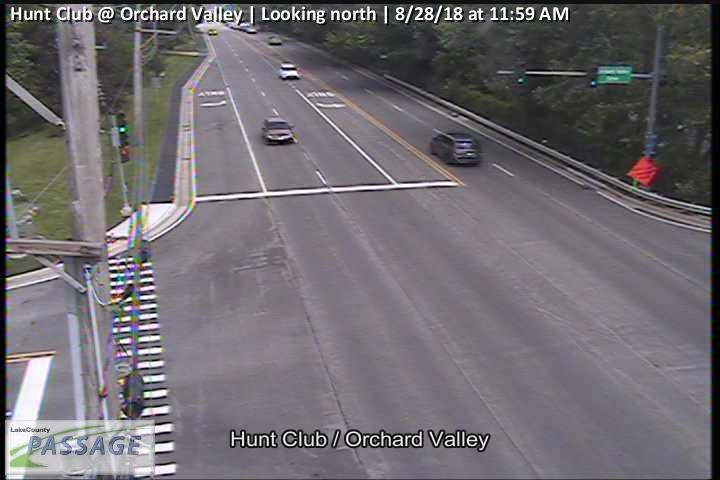SUV: (430, 133, 482, 167)
Sedan: (262, 117, 294, 144), (278, 62, 298, 78), (266, 34, 282, 44)
